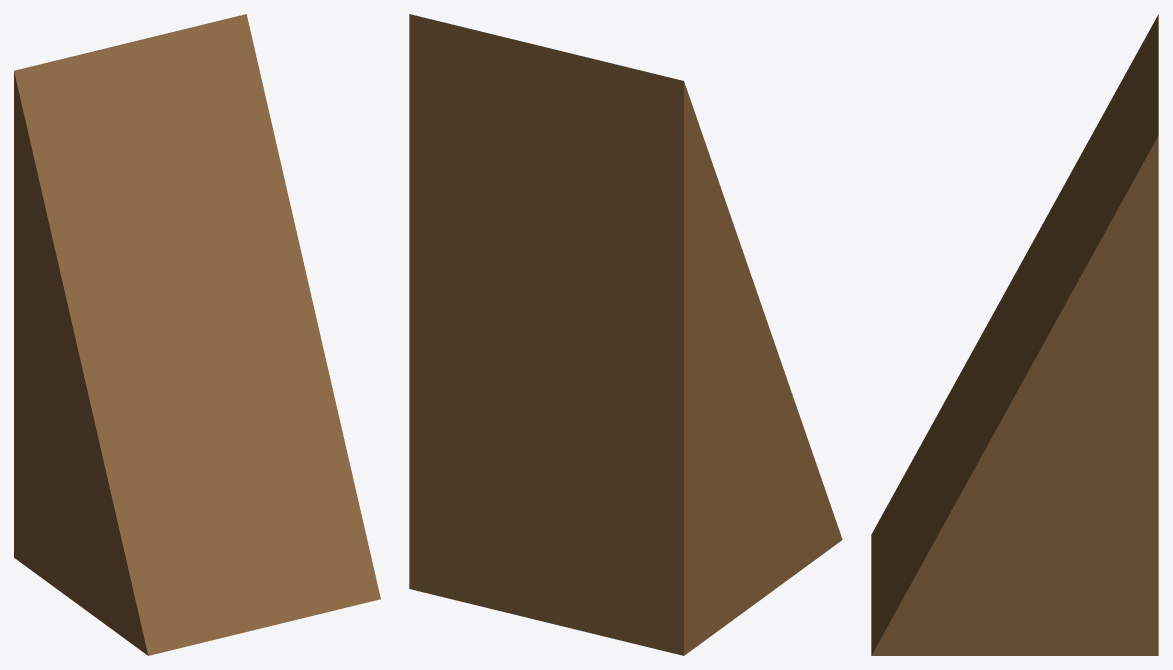
Rendered from RPG_Tiles_Square_Dirt_Ramp_Double_01.FBX.
The picture shows the model from 3 angles, left to right: view 1: azimuth 30°, elevation 25°; view 2: azimuth 150°, elevation 25°; view 3: azimuth 270°, elevation 25°; orthographic projection. The views are drawn at different scales.
Visible parts, largest first — view 1: RPG_Tiles_Square_Dirt_Ramp_Double_01; view 2: RPG_Tiles_Square_Dirt_Ramp_Double_01; view 3: RPG_Tiles_Square_Dirt_Ramp_Double_01.
Part boxes in pixels (x1=…): RPG_Tiles_Square_Dirt_Ramp_Double_01: x1=14, y1=14, x2=380, y2=655; RPG_Tiles_Square_Dirt_Ramp_Double_01: x1=409, y1=14, x2=842, y2=655; RPG_Tiles_Square_Dirt_Ramp_Double_01: x1=871, y1=14, x2=1158, y2=655.
Size of the model in its own units: 3000 by 6000 by 3000.
